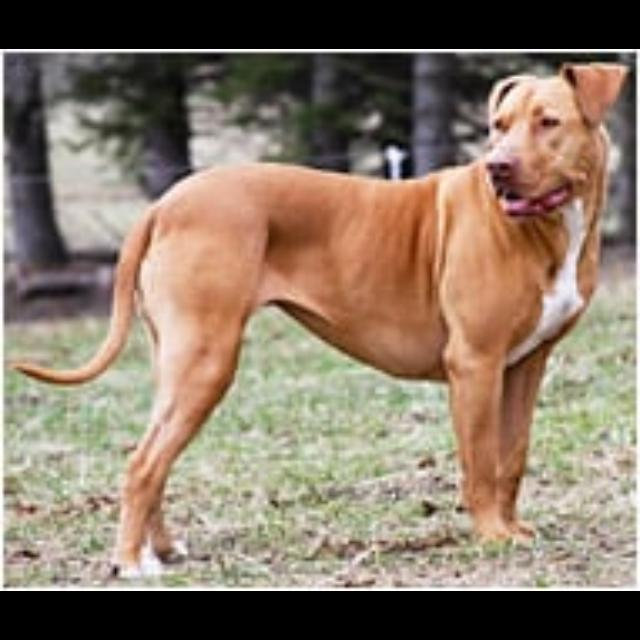am_pit_bull_terrier: (11, 61, 627, 580)
